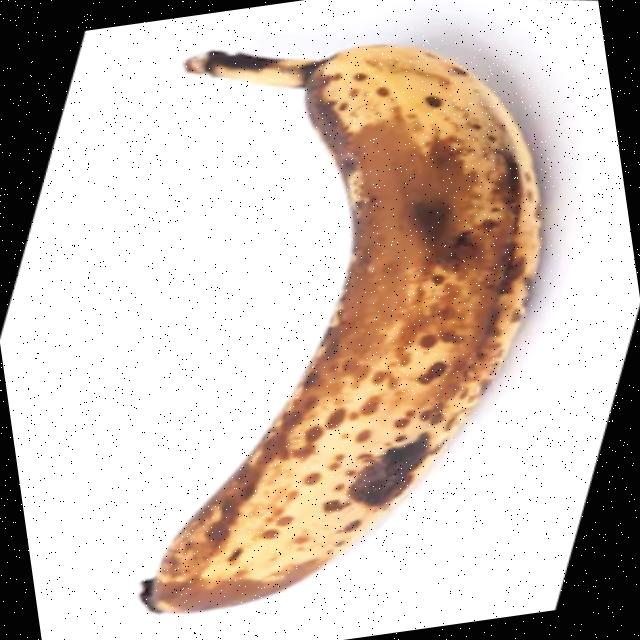overripe: (62, 11, 600, 624)
